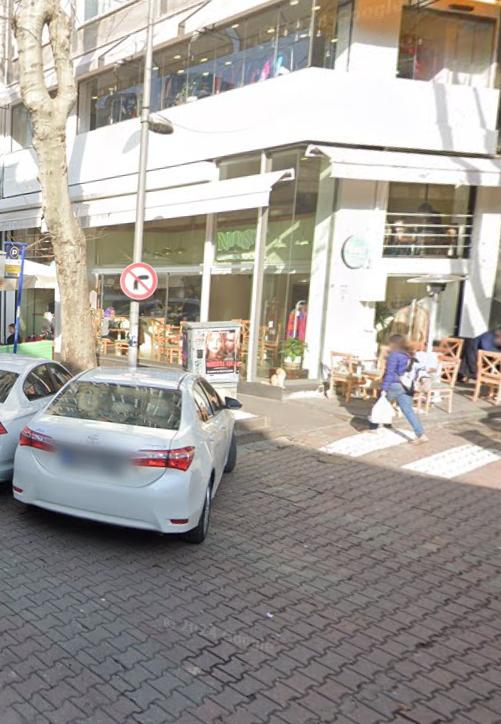rightturnsareforbidden: (124, 263, 155, 298)
